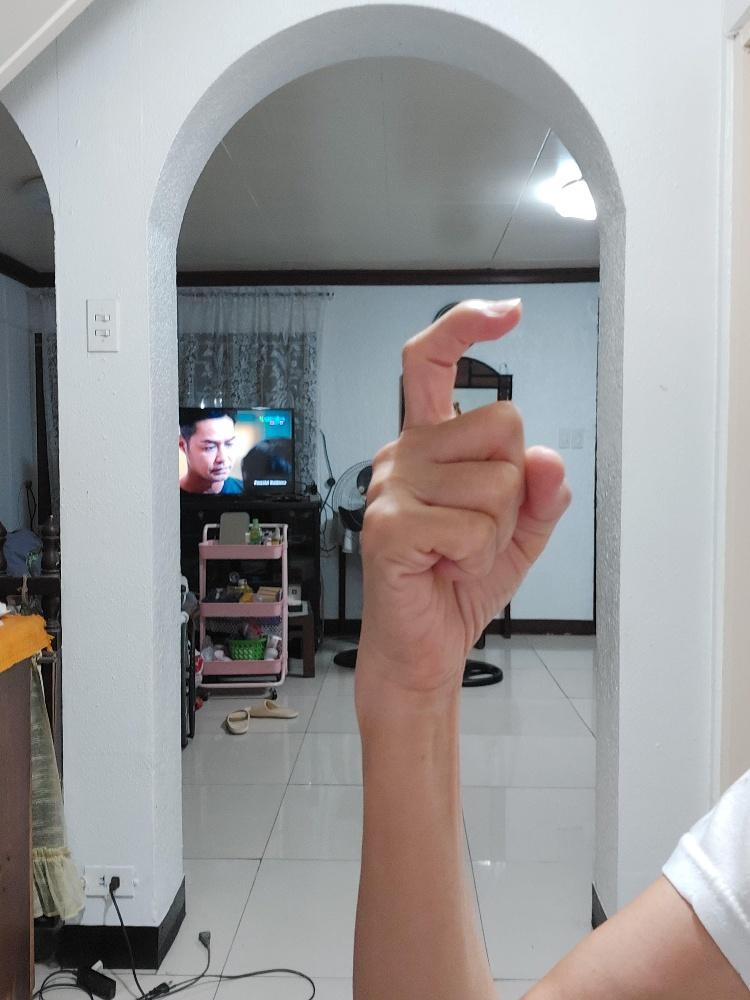x: (355, 297, 571, 683)
